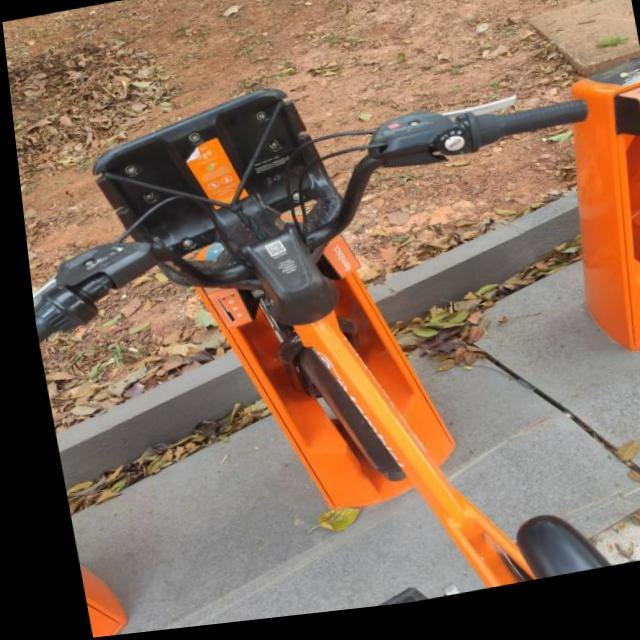qrcode: (260, 247, 280, 263)
